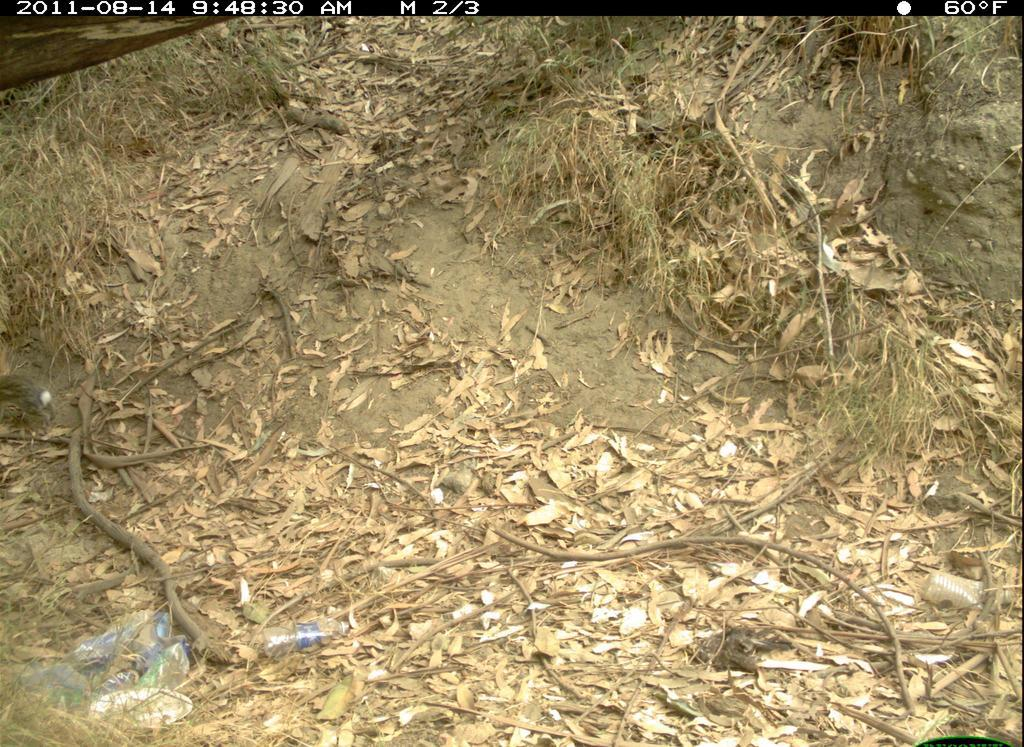rabbit: (2, 367, 63, 437)
